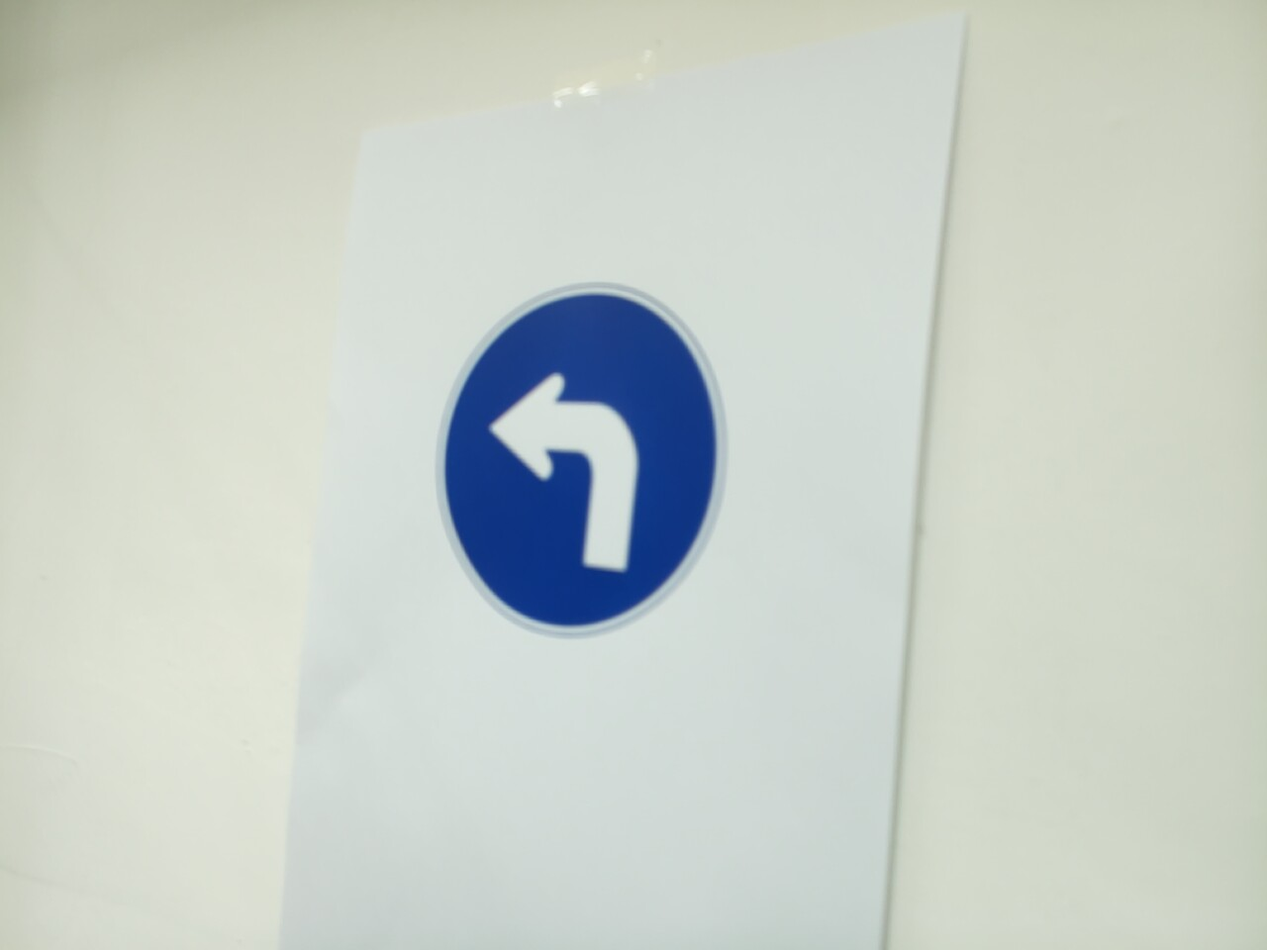left_turn: (436, 284, 726, 636)
